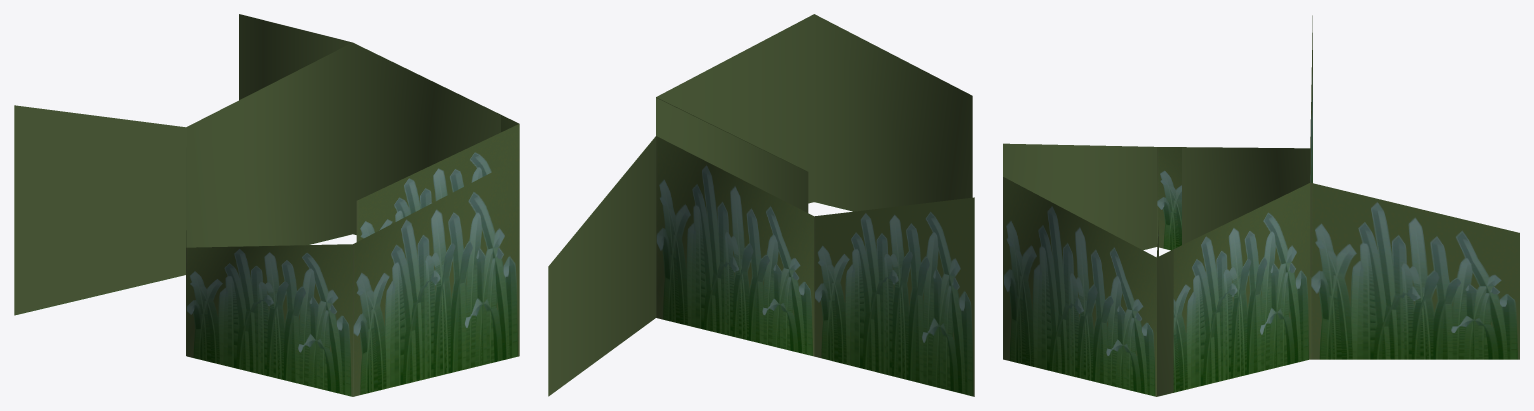
Rendered from Mveg4.glb.
3 renders of one model, left to right at view 1: azimuth 30°, elevation 25°; view 2: azimuth 150°, elevation 25°; view 3: azimuth 270°, elevation 25°, orthographic. The views are drawn at different scales.
Parts seen in each view (by area): view 1: 01 Mesh0.001, 01 Mesh0; view 2: 01 Mesh0.001, 01 Mesh0; view 3: 01 Mesh0, 01 Mesh0.001.
Part boxes in pixels (x1,y1,x2,y2): 01 Mesh0.001: (14, 14, 519, 355); 01 Mesh0: (14, 14, 519, 396); 01 Mesh0.001: (548, 14, 972, 395); 01 Mesh0: (548, 14, 974, 396); 01 Mesh0: (1003, 21, 1519, 396); 01 Mesh0.001: (1003, 15, 1519, 396).
Size of the model in its own units: 4.74 by 2.26 by 5.47.
Materials: 2 (1 with a texture image).
